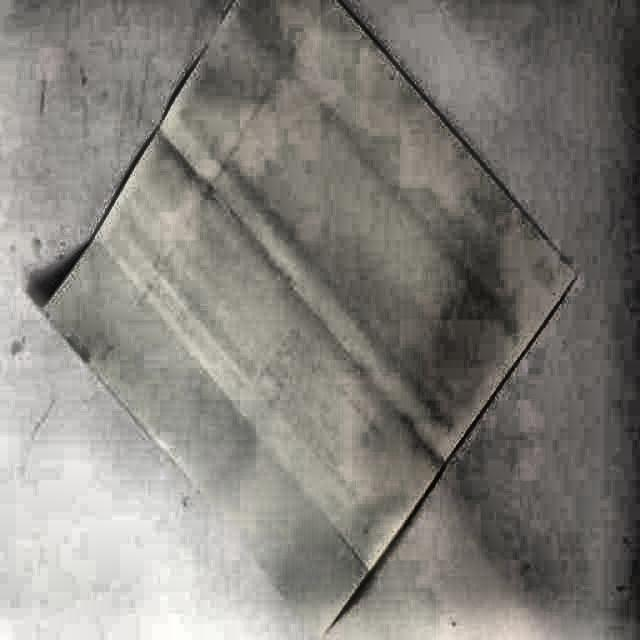Paper: (39, 0, 575, 638)
